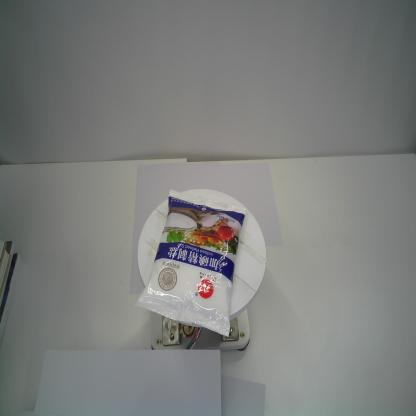Seasoner: (132, 186, 248, 338)
